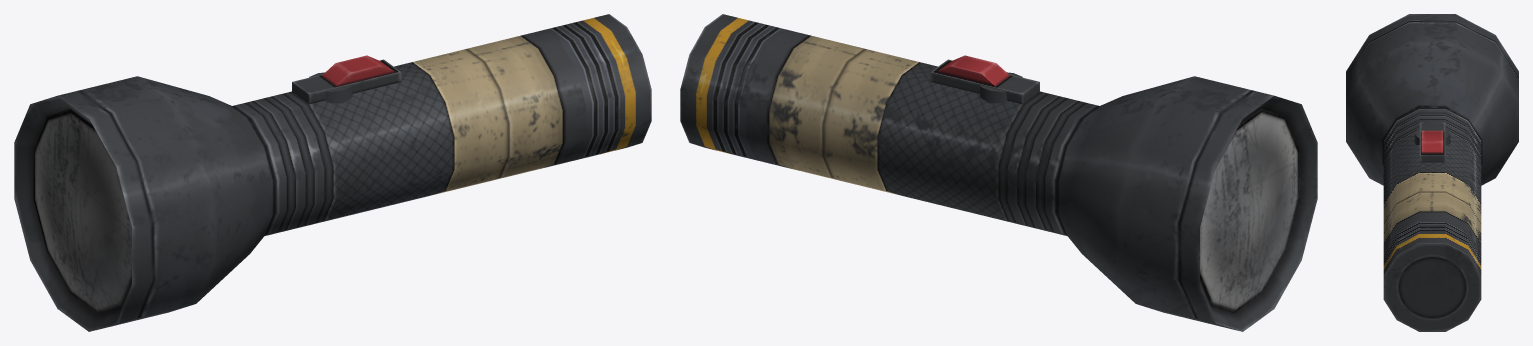
The model's file is ITEM_flashlight01.fbx.
3 views of the same model, side by side, from view 1: azimuth 30°, elevation 25°; view 2: azimuth 150°, elevation 25°; view 3: azimuth 270°, elevation 25° (orthographic). The views are drawn at different scales.
Visible parts, largest first — view 1: ITEM_flashlight01; view 2: ITEM_flashlight01; view 3: ITEM_flashlight01.
Part boxes in pixels (x1,y1,x2,y2): ITEM_flashlight01: (14, 14, 651, 331); ITEM_flashlight01: (680, 14, 1317, 331); ITEM_flashlight01: (1346, 14, 1518, 331).
Bounding box in the file's own units: 20.26 × 7.58 × 7.58.
